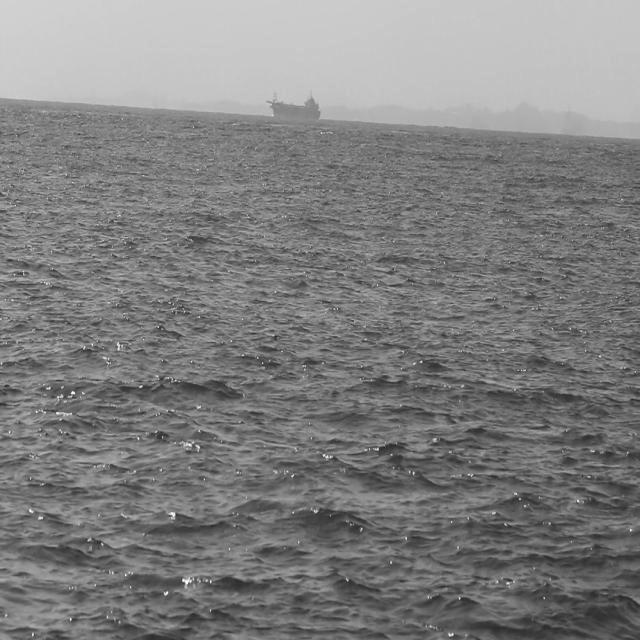ship: (266, 89, 322, 126)
